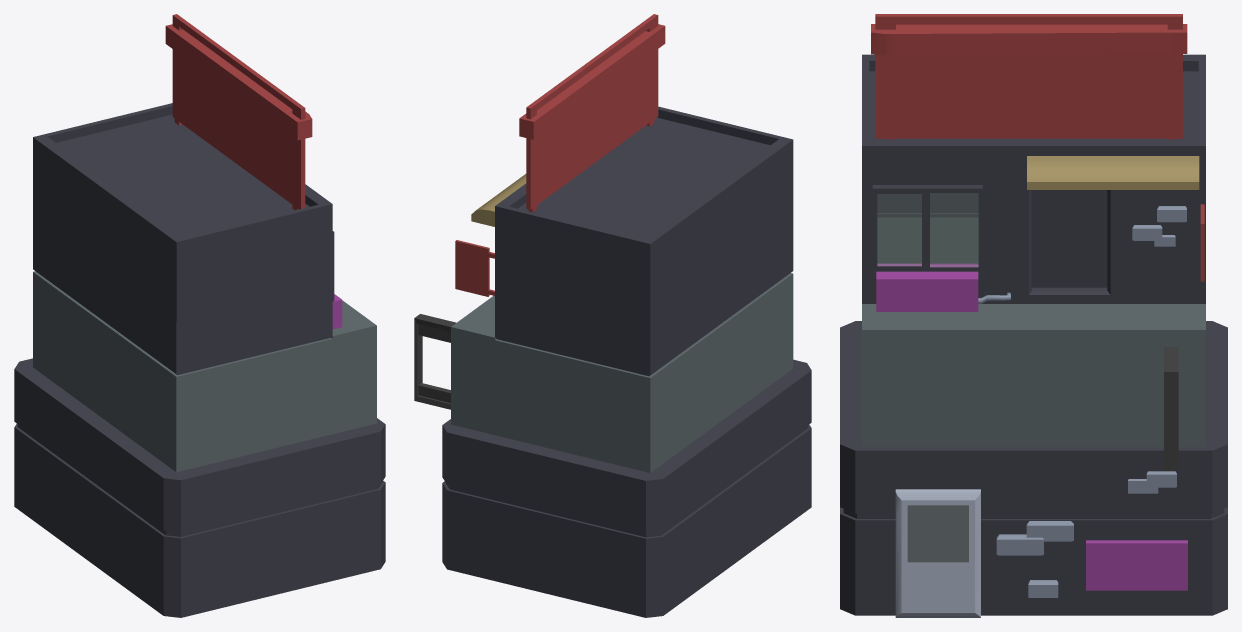
The model's file is 7_Main.fbx.
3 views of the same model, side by side, from view 1: azimuth 30°, elevation 25°; view 2: azimuth 150°, elevation 25°; view 3: azimuth 270°, elevation 25° (orthographic). The views are drawn at different scales.
Visible parts, largest first — view 1: pasted__pCube17, pasted__pCube18, pasted__pasted__pCube114; view 2: pasted__pCube17, pasted__pCube18, pasted__pasted__pCube114, pasted__pCube31, pasted__pCube32, pasted__pCube28; view 3: pasted__pCube17, pasted__pCube18, pasted__pasted__pCube114, pasted__pCube28, pCube65, pCube50, pasted__pCube31, pasted__pCube25, pasted__pCube22, pasted__pCube24.
Boxes of the visible parts, x1=… form: pasted__pCube17: x1=33, y1=103, x2=376, y2=472; pasted__pCube18: x1=14, y1=358, x2=385, y2=617; pasted__pasted__pCube114: x1=165, y1=14, x2=312, y2=210; pasted__pCube17: x1=451, y1=106, x2=793, y2=472; pasted__pCube18: x1=442, y1=359, x2=811, y2=617; pasted__pasted__pCube114: x1=519, y1=14, x2=665, y2=212; pasted__pCube31: x1=414, y1=314, x2=456, y2=409; pasted__pCube32: x1=455, y1=240, x2=494, y2=296; pasted__pCube28: x1=471, y1=174, x2=526, y2=226; pasted__pCube17: x1=862, y1=54, x2=1205, y2=447; pasted__pCube18: x1=840, y1=321, x2=1227, y2=617; pasted__pasted__pCube114: x1=871, y1=14, x2=1187, y2=139; pasted__pCube28: x1=1027, y1=156, x2=1199, y2=189; pCube65: x1=1086, y1=540, x2=1187, y2=590; pCube50: x1=876, y1=263, x2=978, y2=311; pasted__pCube31: x1=1164, y1=347, x2=1178, y2=471; pasted__pCube25: x1=996, y1=534, x2=1043, y2=555; pasted__pCube22: x1=1026, y1=521, x2=1073, y2=541; pasted__pCube24: x1=1028, y1=580, x2=1058, y2=597.
Size of the model in its own units: 6.01 by 10.1 by 6.37.
